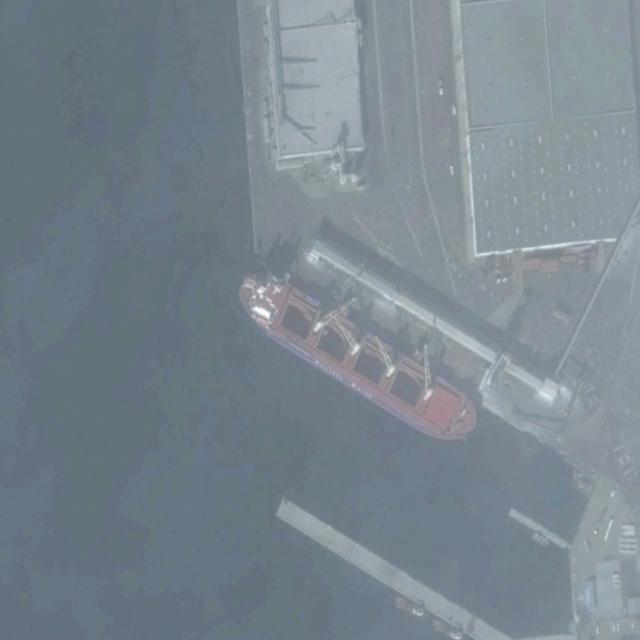Cargo: (227, 257, 486, 458)
